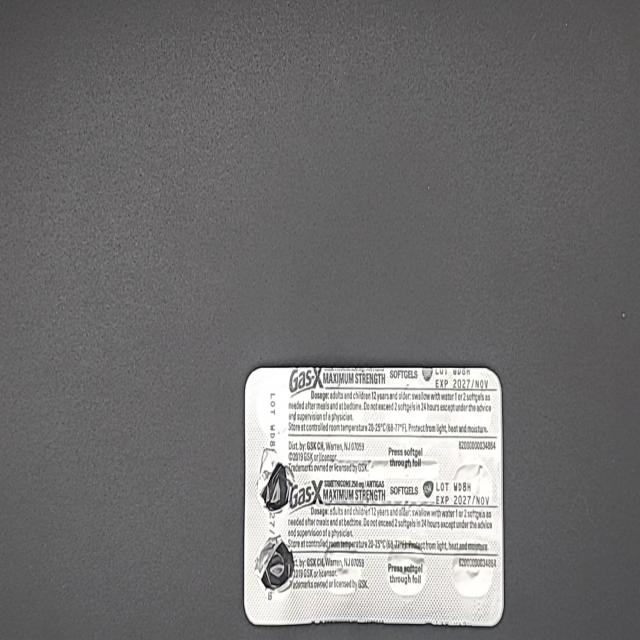defect: (252, 531, 296, 595), (256, 444, 295, 516)
